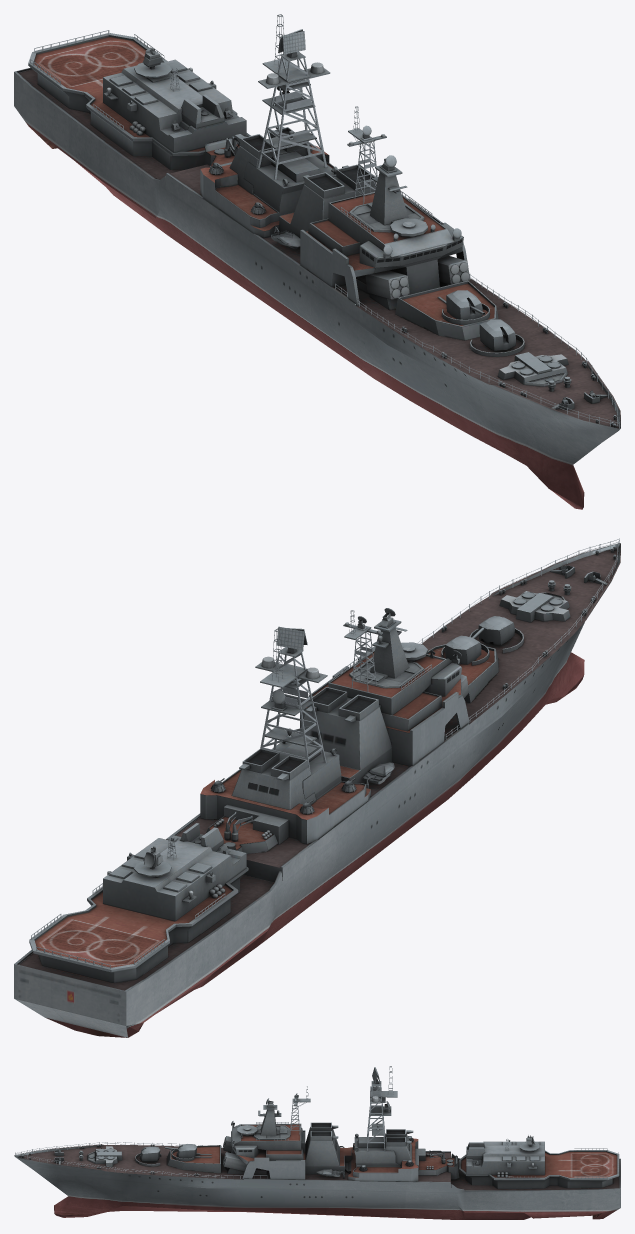
File: destroyer.glb
The picture shows the model from 3 angles, top to bottom: view 1: azimuth 30°, elevation 25°; view 2: azimuth 150°, elevation 25°; view 3: azimuth 270°, elevation 25°; orthographic projection. The views are drawn at different scales.
Visible parts, largest first — view 1: Object_2; view 2: Object_2; view 3: Object_2.
Boxes of the visible parts, <box> form: Object_2: <box>14,14,620,509</box>; Object_2: <box>14,538,620,1037</box>; Object_2: <box>14,1066,620,1219</box>.
Bounding box in the file's own units: 0.6166 × 1.38 × 4.99.
1 material, 1 textured.
